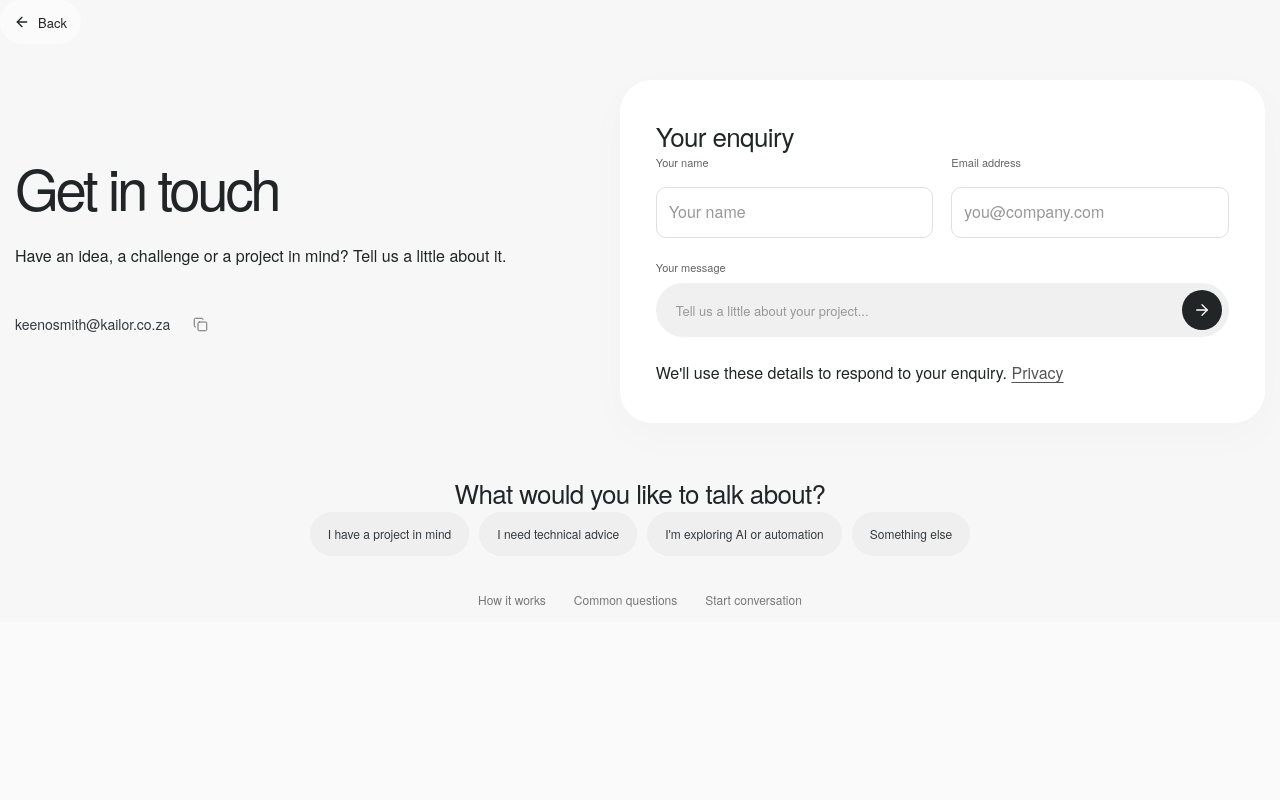
Test case: uses the same delivery contract and confirmed-send toast from the original chat modal
The width and height of the screenshot is (1280, 800).
Click the button "Start conversation" at (754, 600), box left=705, top=578, right=802, bottom=622
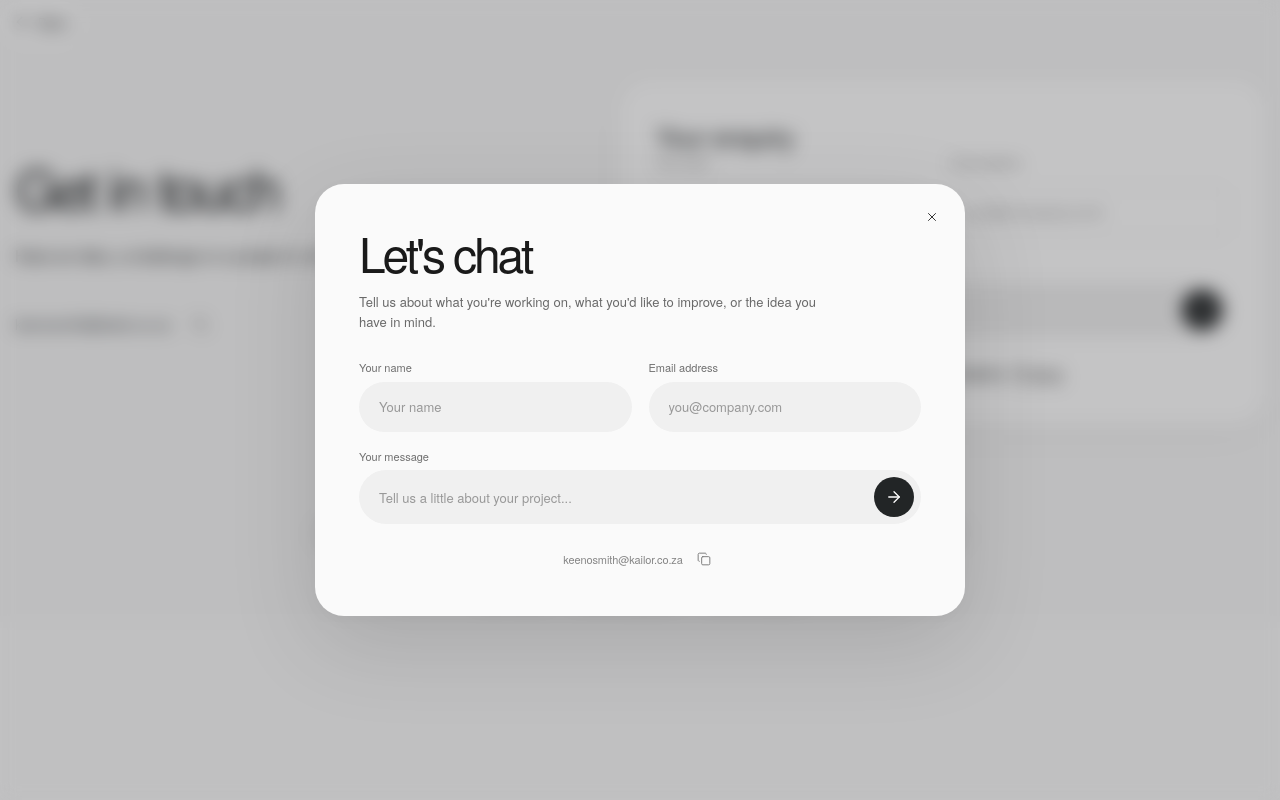
Type "  Alex  " into the field labelled "Your name" at (495, 406), box left=359, top=382, right=632, bottom=432
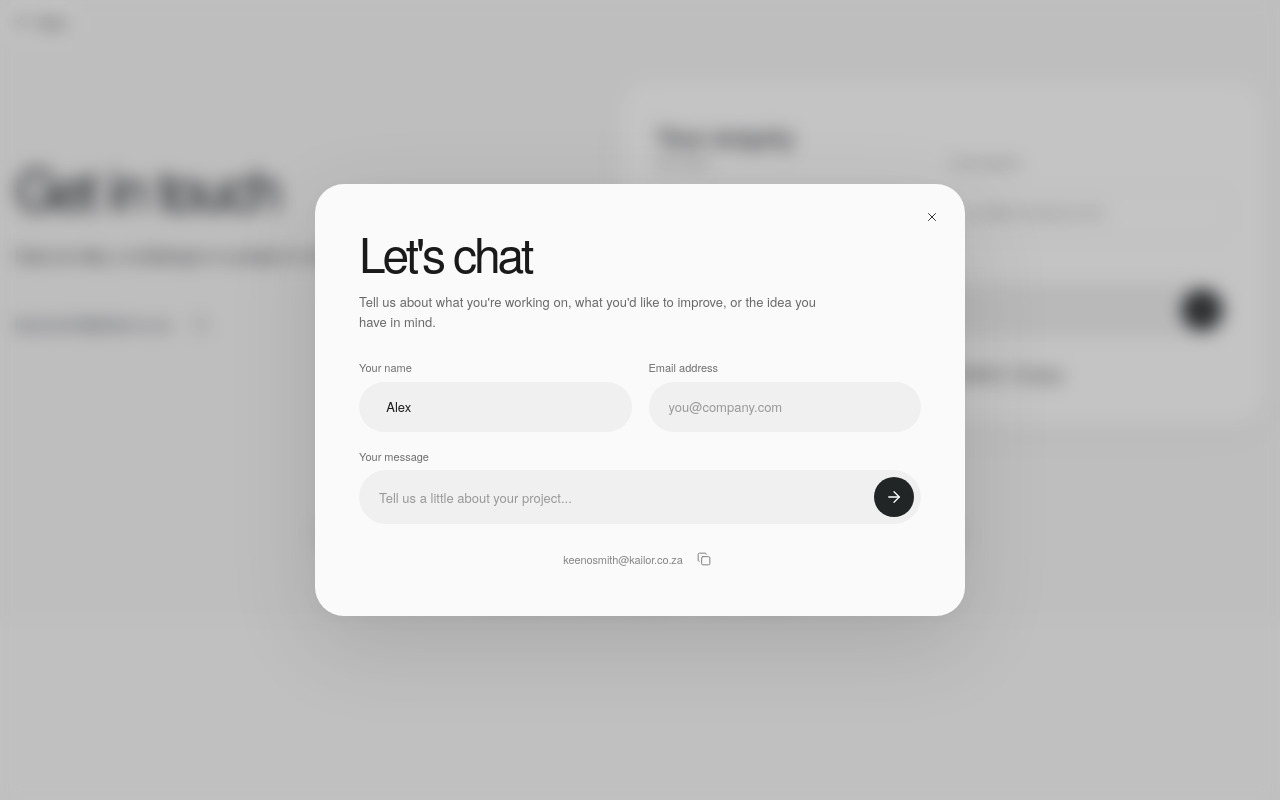
Type "alex@example.com" into the field labelled "Email address" at (785, 406), box left=648, top=382, right=921, bottom=432
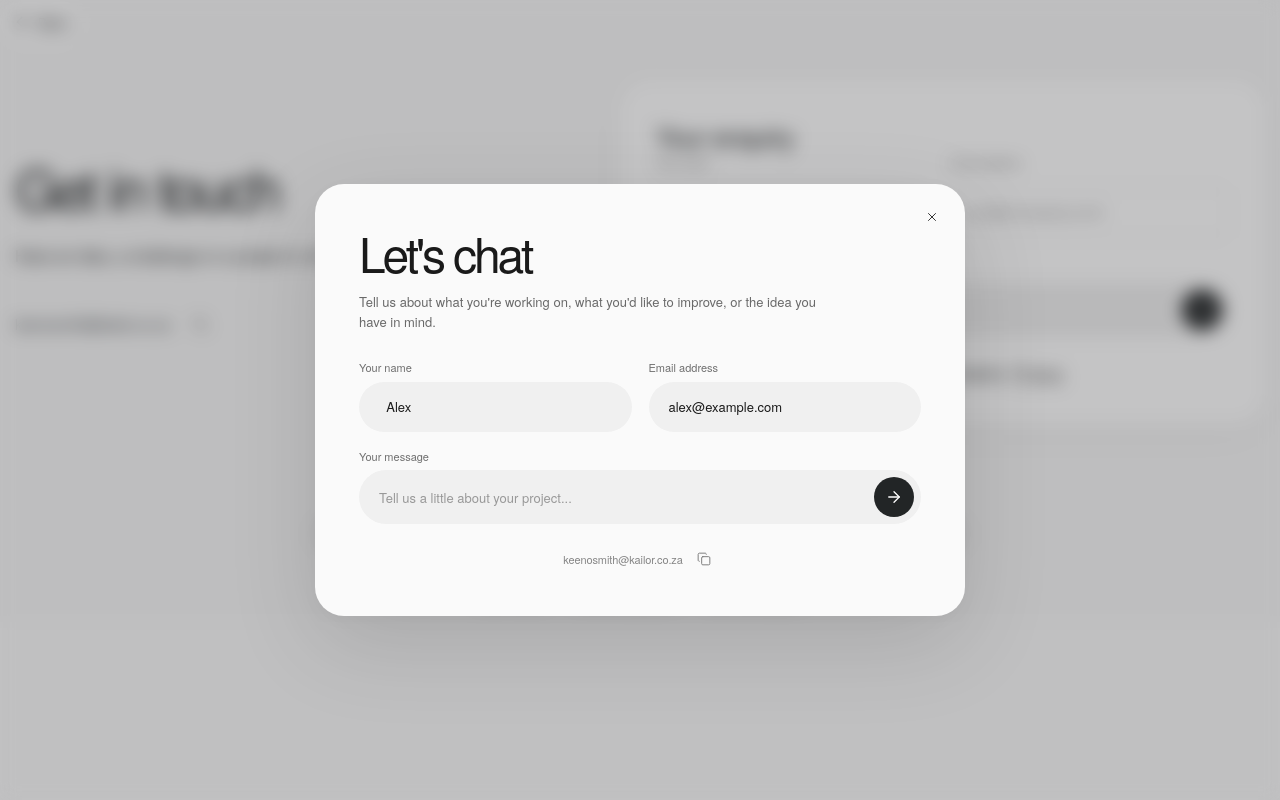
Type "Please help us connect our existing systems." into the text box labelled "Your message" at (640, 497), box left=359, top=470, right=921, bottom=524
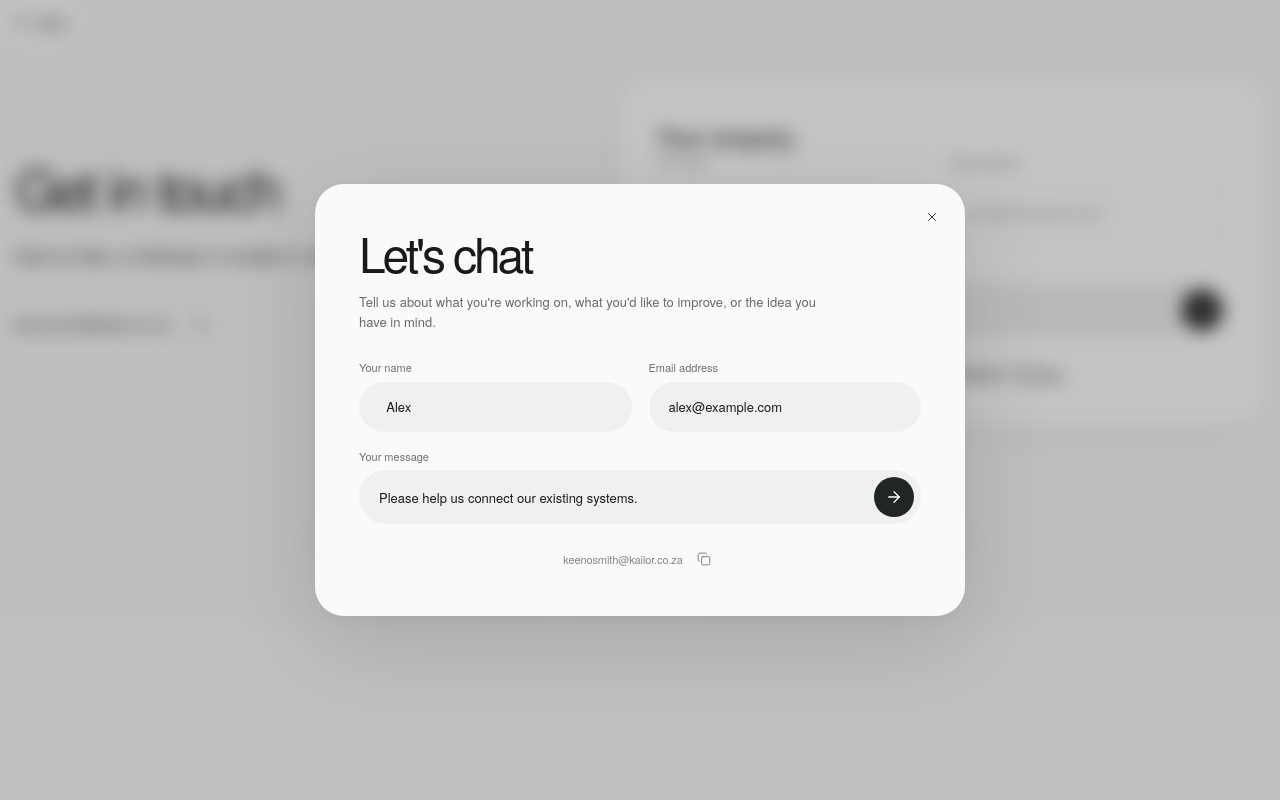
Click the button named "Send message" at (894, 497), box left=874, top=477, right=914, bottom=517
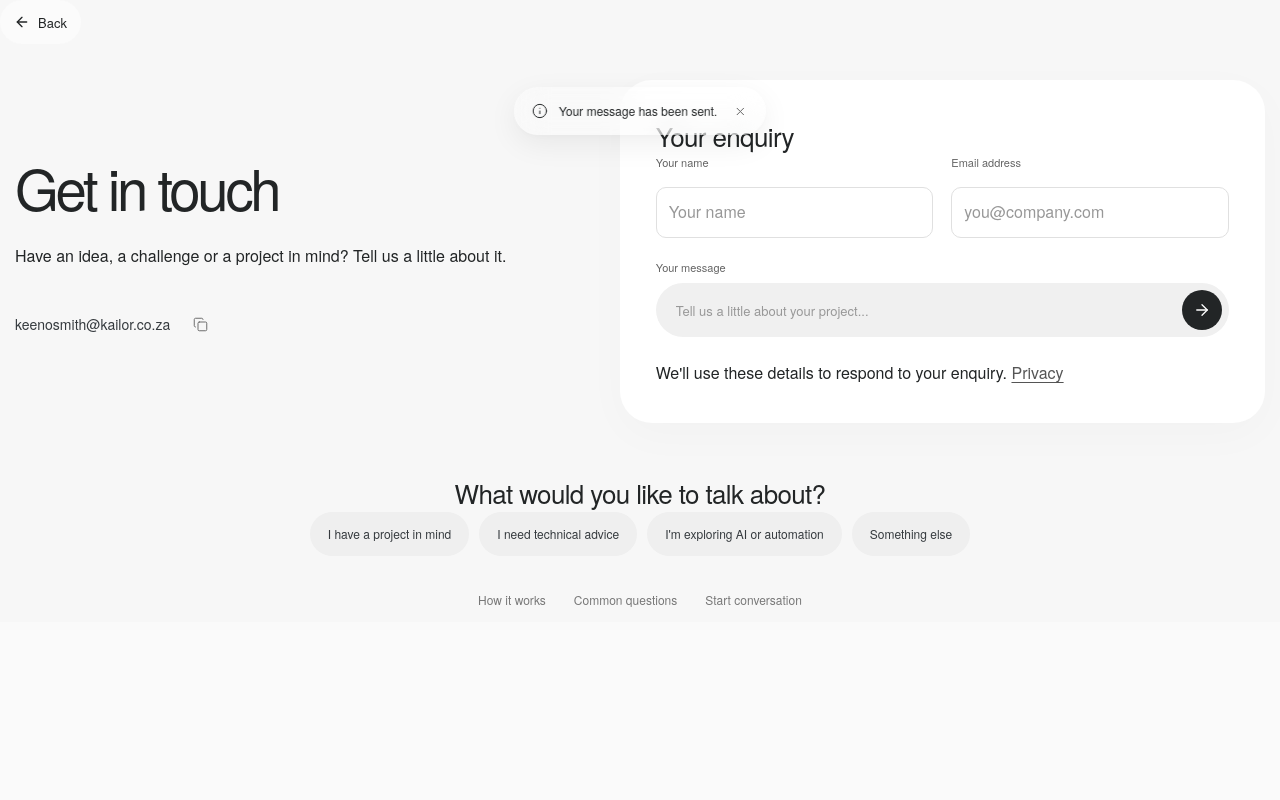
Check: the text "Your message has been sent." is shown, box left=514, top=87, right=766, bottom=135
Check: the heading "Let's chat" is gone
